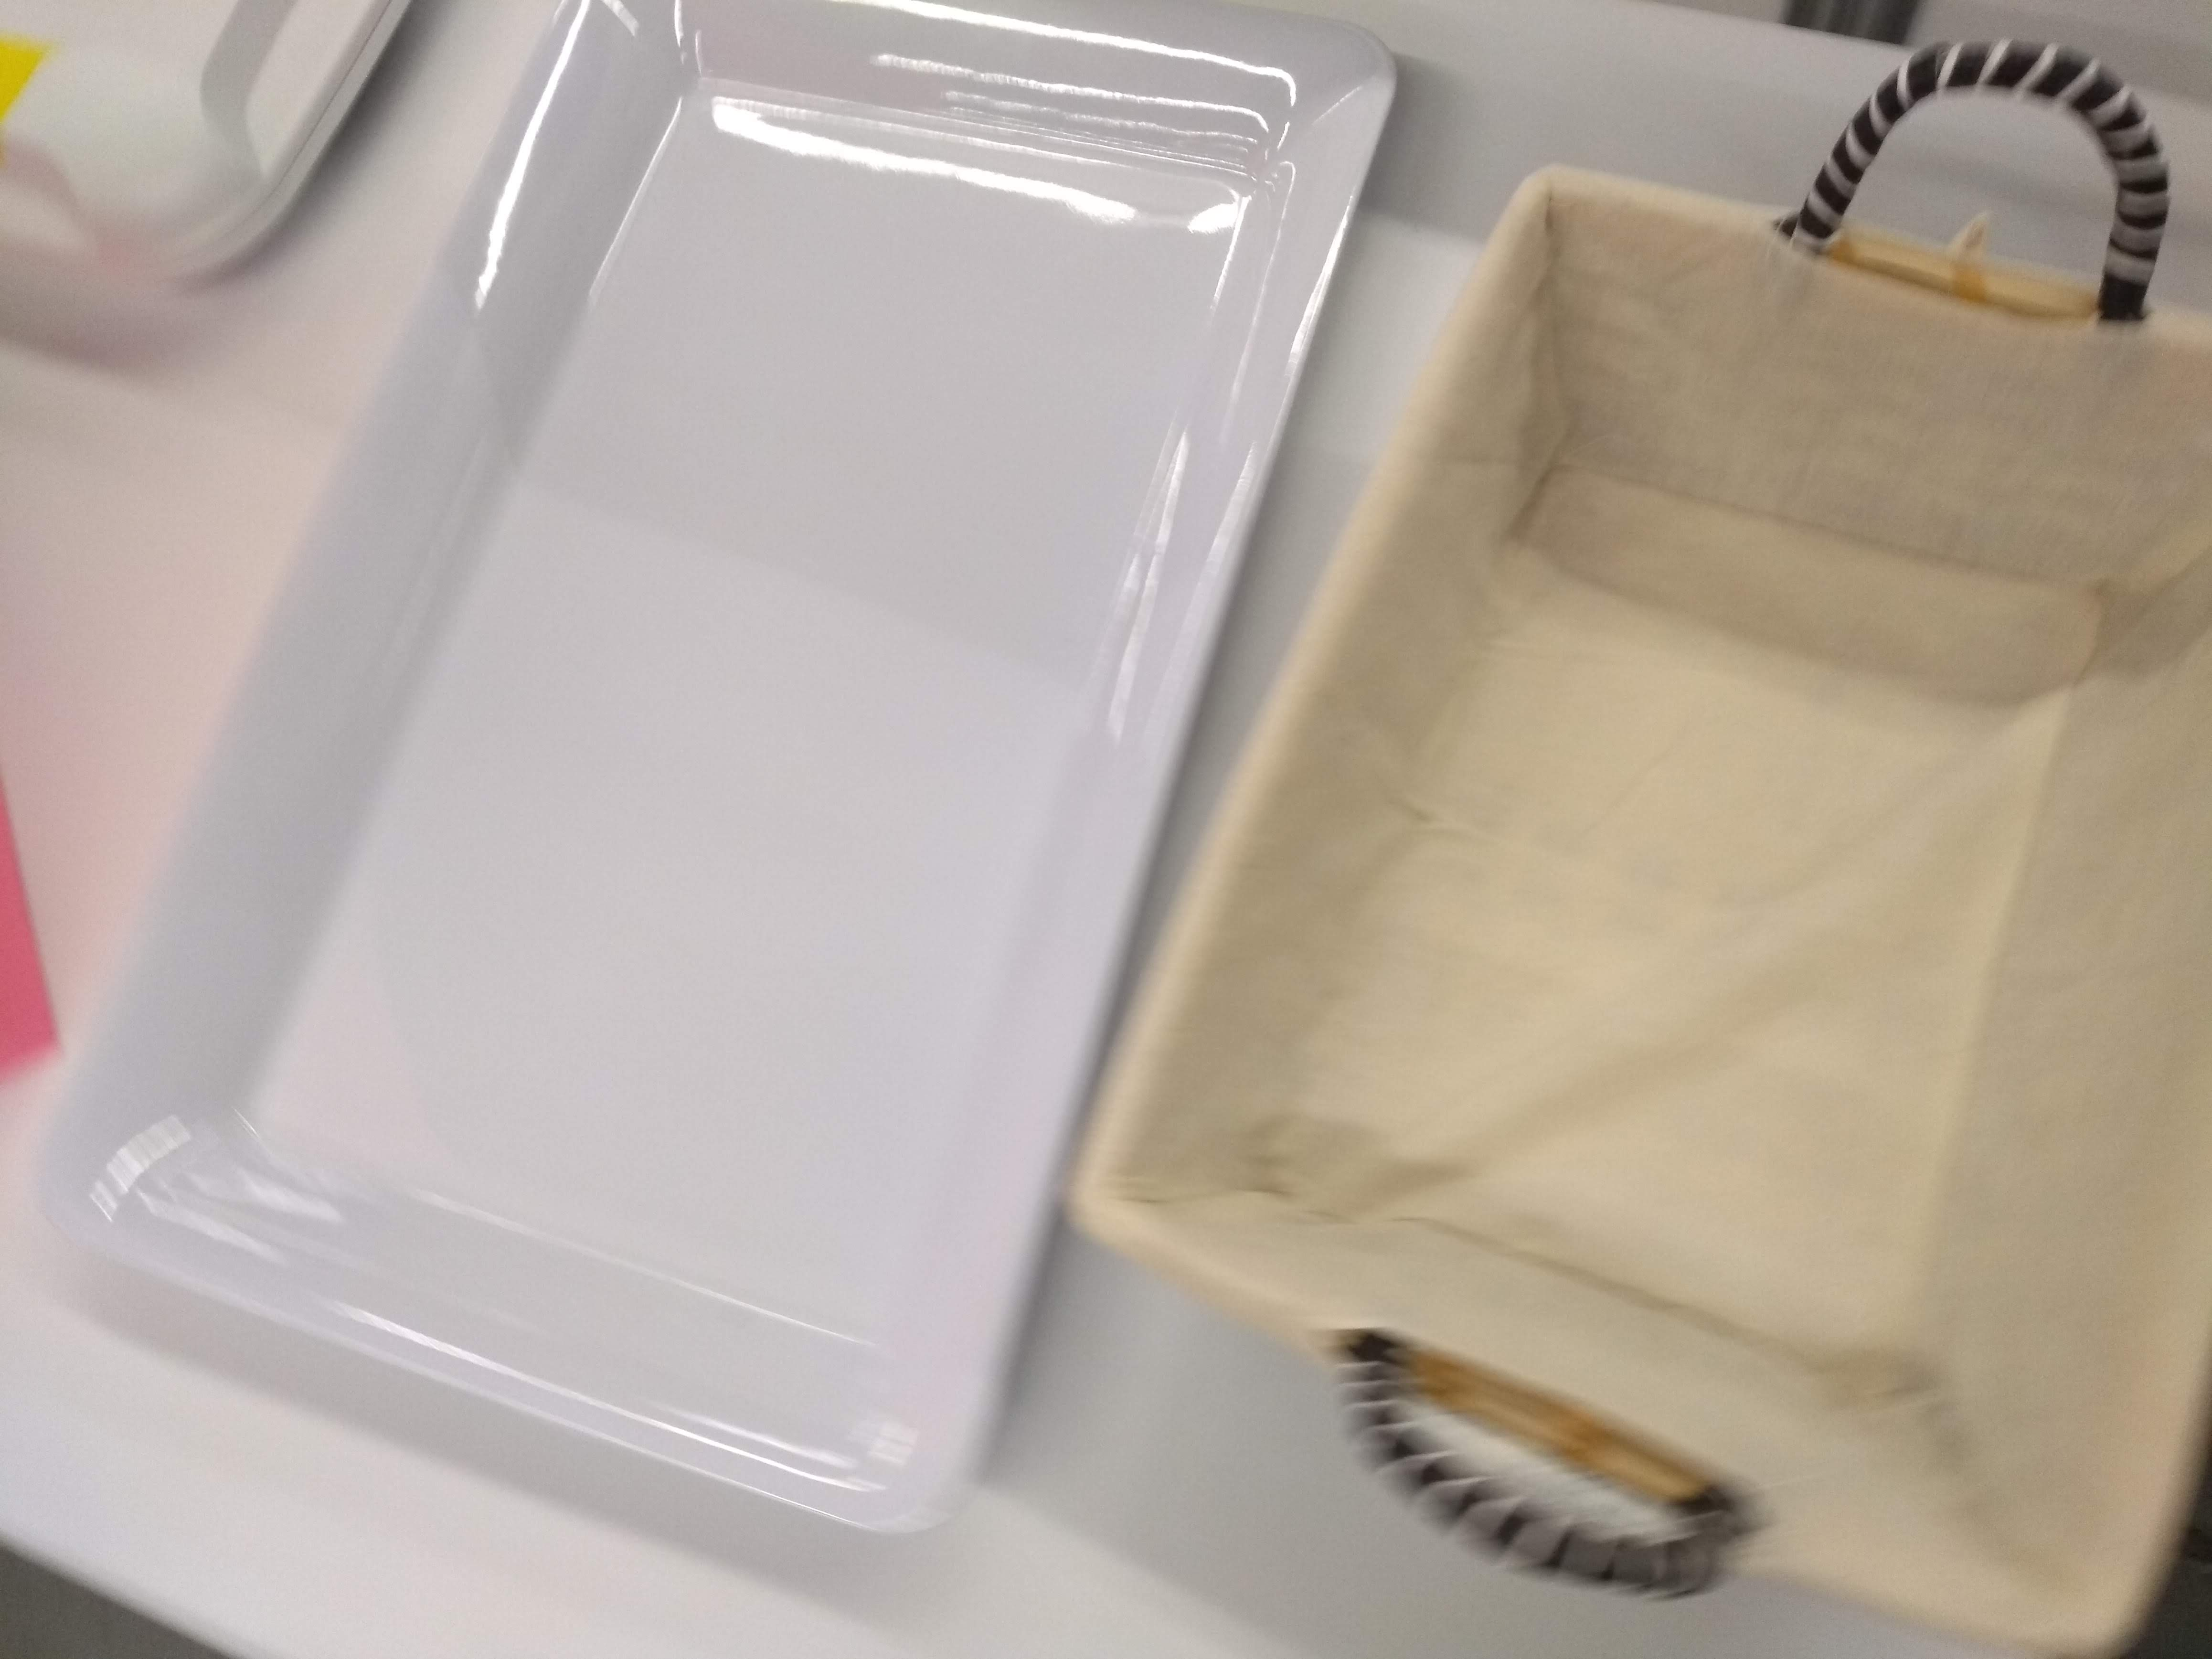basket: (1062, 33, 2212, 1642)
tray: (26, 2, 1413, 1509)
